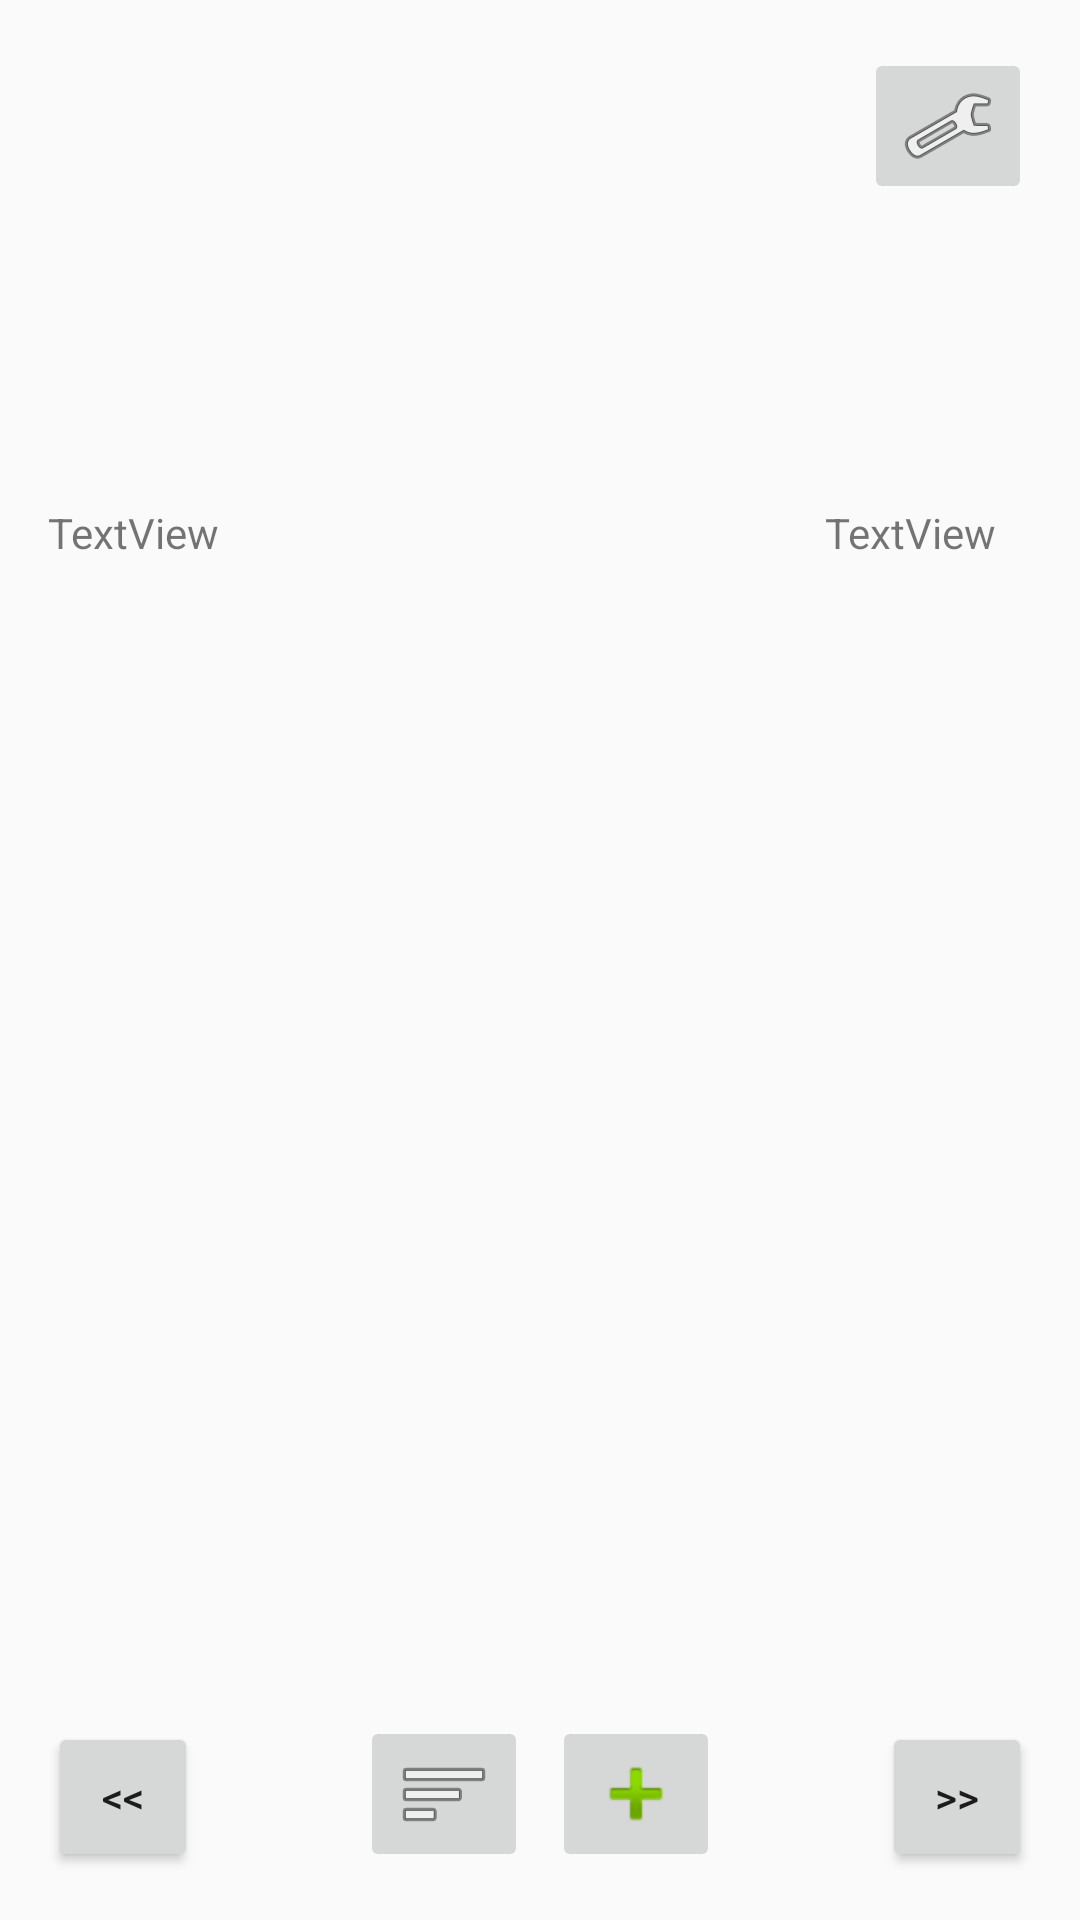

Locate icon controls on the screen. Image size 1080×1920, boxes as (x1, y1, x2, y2).
Adds Plant: (564, 1734, 708, 1854)
Lists Important Information: (372, 1734, 516, 1854)
Preferences: (876, 66, 1020, 186)
